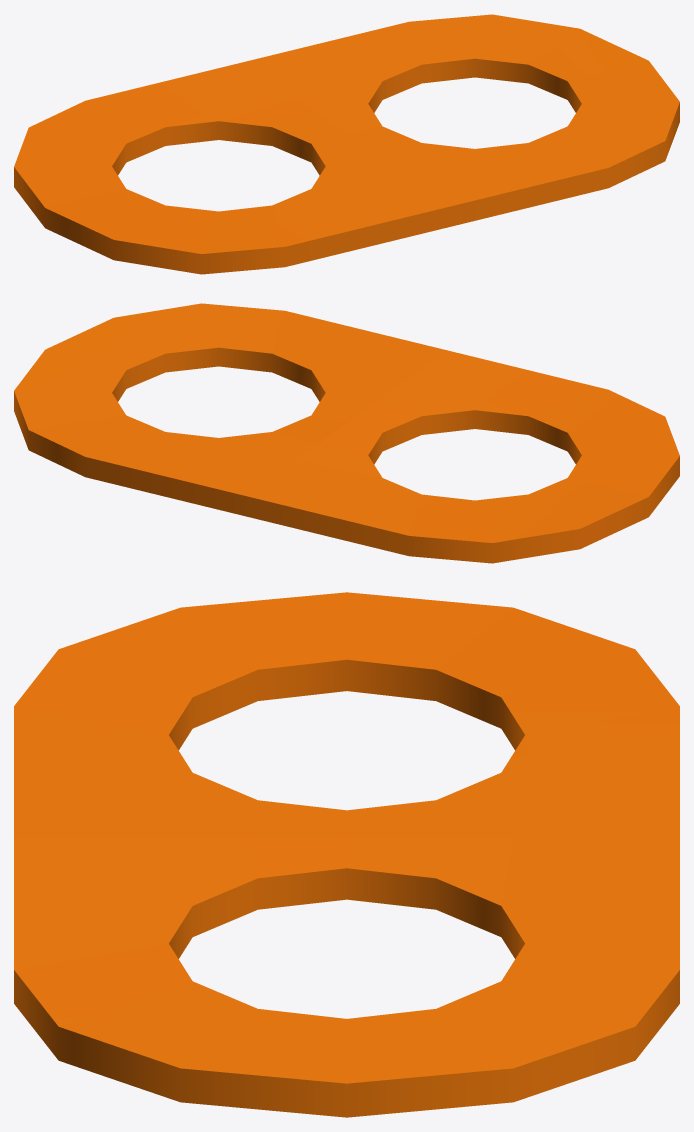
File: TwoLongYellow.fbx
3 views of the same model, one above another, from view 1: azimuth 30°, elevation 25°; view 2: azimuth 150°, elevation 25°; view 3: azimuth 270°, elevation 25° (orthographic). The views are drawn at different scales.
Parts seen in each view (by area): view 1: Blue2; view 2: Blue2; view 3: Blue2.
Part boxes in pixels (left/top/right/bottom): Blue2: left=14, top=14, right=679, bottom=274; Blue2: left=14, top=303, right=679, bottom=563; Blue2: left=14, top=592, right=679, bottom=1117.
Bounding box in the file's own units: 6.02 × 0.1942 × 3.45.
